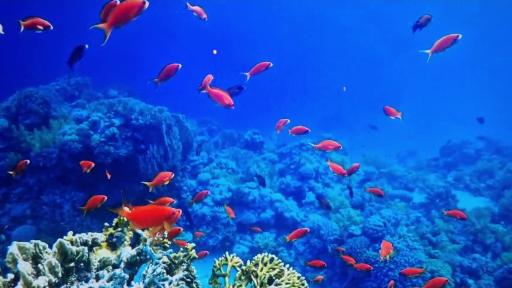Fish: (90, 0, 149, 45), (120, 205, 181, 233), (420, 34, 462, 61), (149, 64, 181, 89), (207, 85, 234, 108), (142, 172, 174, 191), (243, 62, 273, 81), (80, 195, 107, 215), (20, 17, 53, 33), (100, 0, 120, 22), (187, 2, 207, 20), (310, 140, 342, 151), (8, 160, 30, 176), (413, 15, 432, 33), (286, 228, 309, 242), (327, 160, 347, 176), (189, 190, 210, 205), (380, 240, 394, 261), (399, 267, 426, 277), (423, 277, 449, 287), (198, 75, 213, 92), (384, 106, 402, 120), (226, 85, 245, 98), (149, 197, 175, 206), (444, 210, 467, 220), (167, 227, 183, 241), (346, 163, 361, 177), (276, 119, 290, 133), (289, 126, 310, 135), (80, 161, 95, 172), (366, 188, 384, 197), (224, 204, 235, 218), (340, 255, 355, 265), (305, 260, 326, 267), (354, 264, 373, 271), (173, 240, 187, 247), (197, 251, 209, 259), (194, 231, 205, 238), (312, 276, 323, 282), (334, 247, 345, 252), (251, 227, 262, 232), (388, 280, 394, 287), (106, 171, 111, 179)
